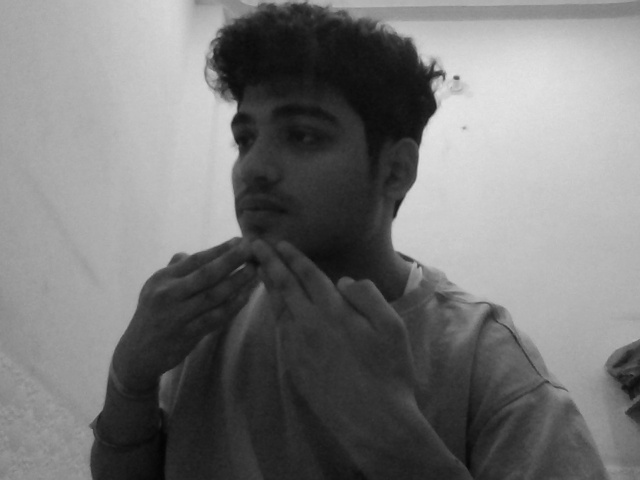Thanks: (88, 197, 418, 432)
